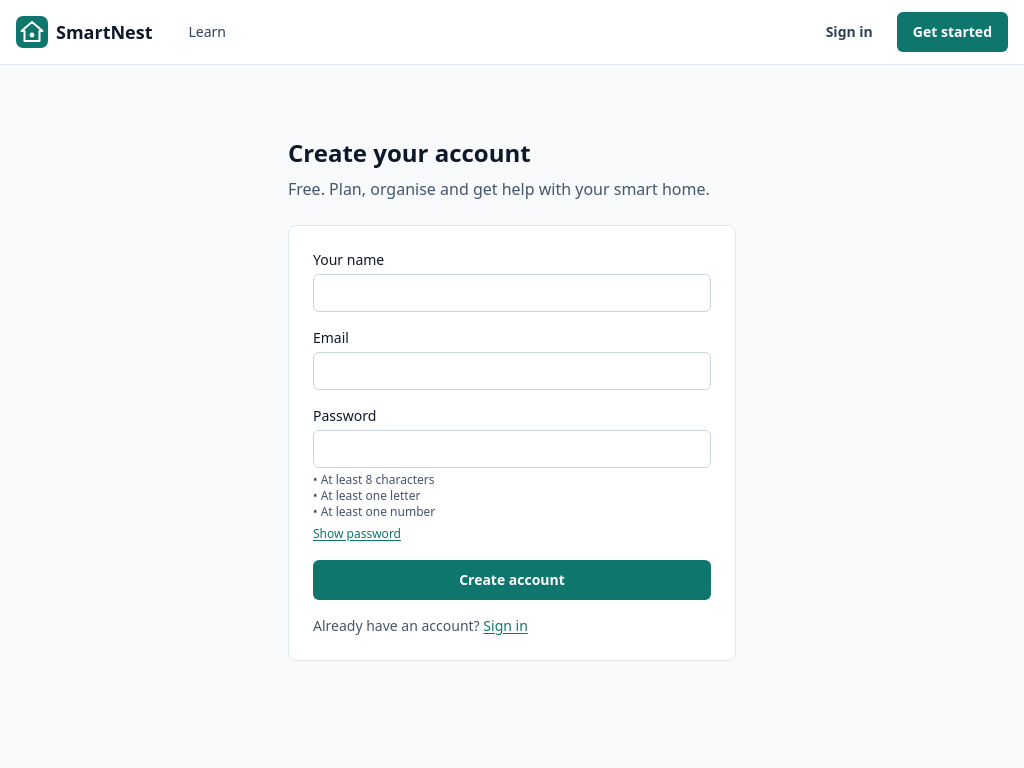
Scenario: sign up › offers sign-in when the email is taken
Type "Asha" into the field labelled "Your name" at x=512, y=293, box [313, 274, 711, 312]
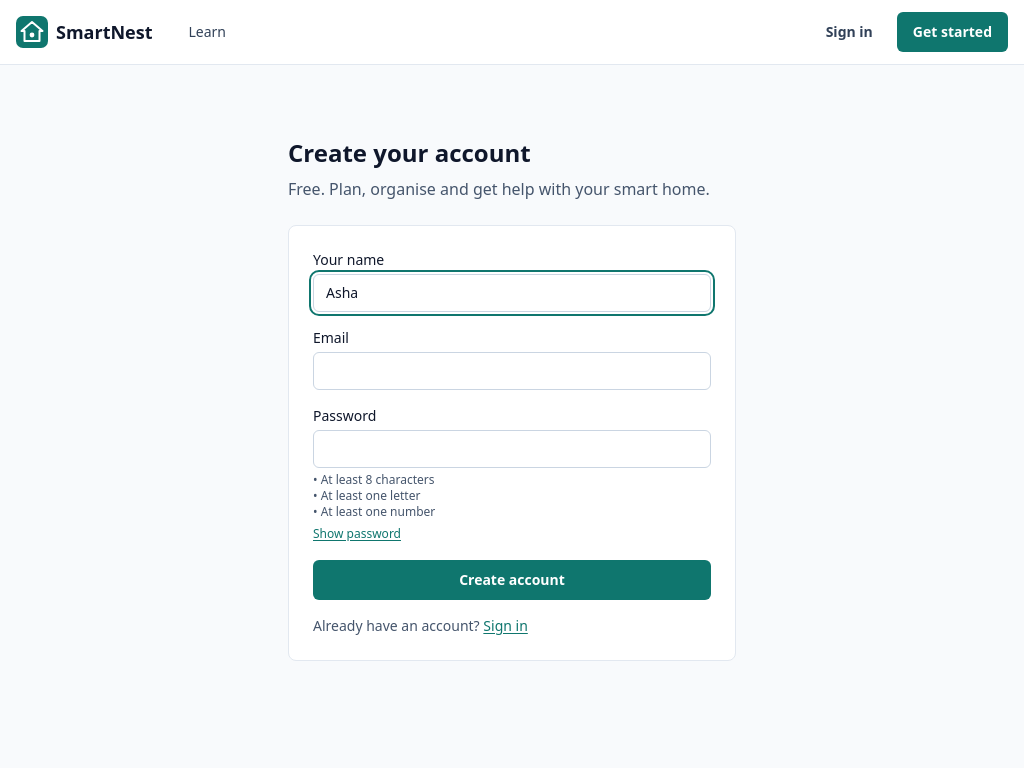
Type "asha@example.com" into the field labelled "Email" at x=512, y=371, box [313, 352, 711, 390]
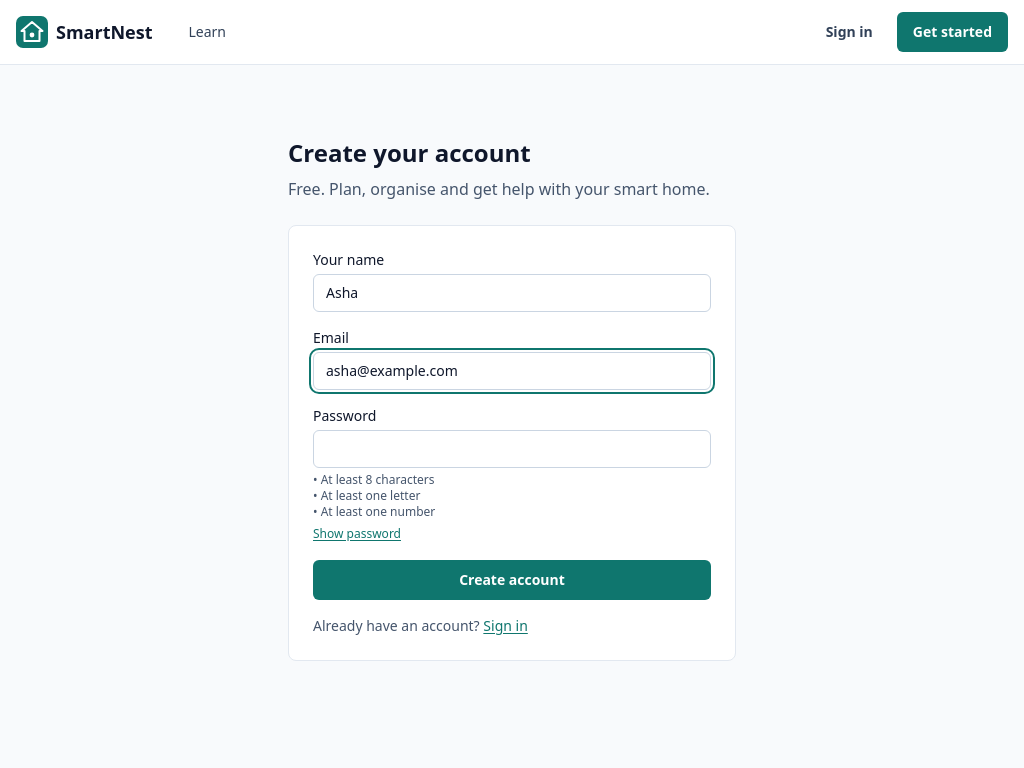
Type "Sup3rSecret99" into the password field labelled "Password" at x=512, y=449, box [313, 430, 711, 468]
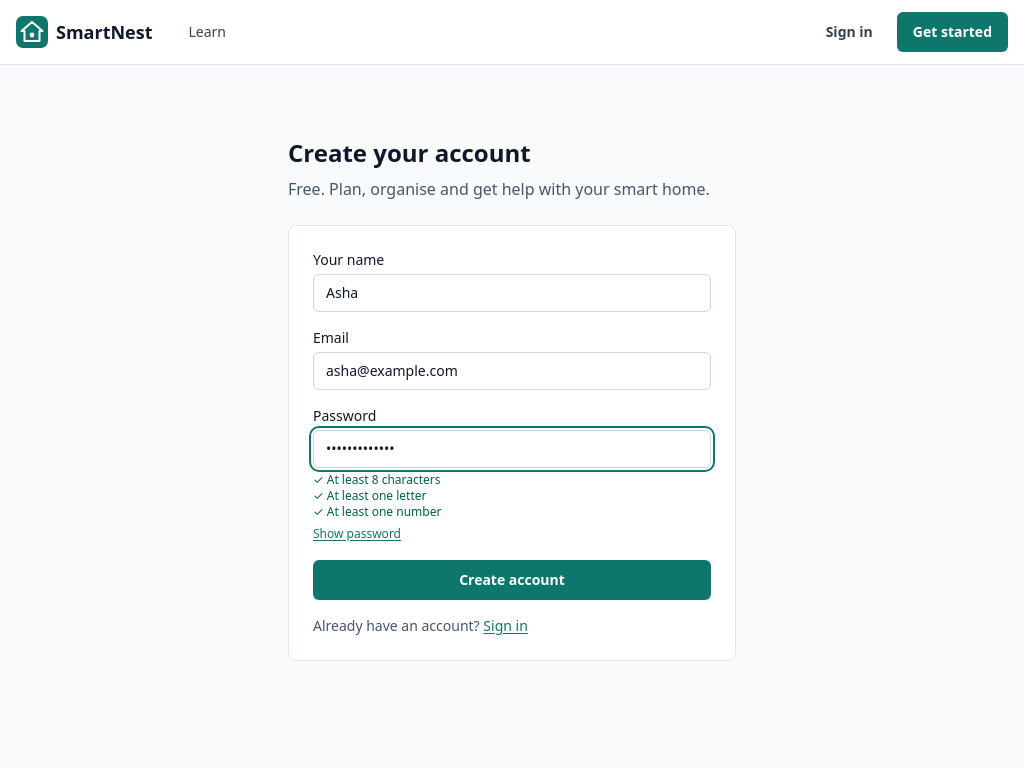
Click the button "Create account" at x=512, y=580, box [313, 560, 711, 600]
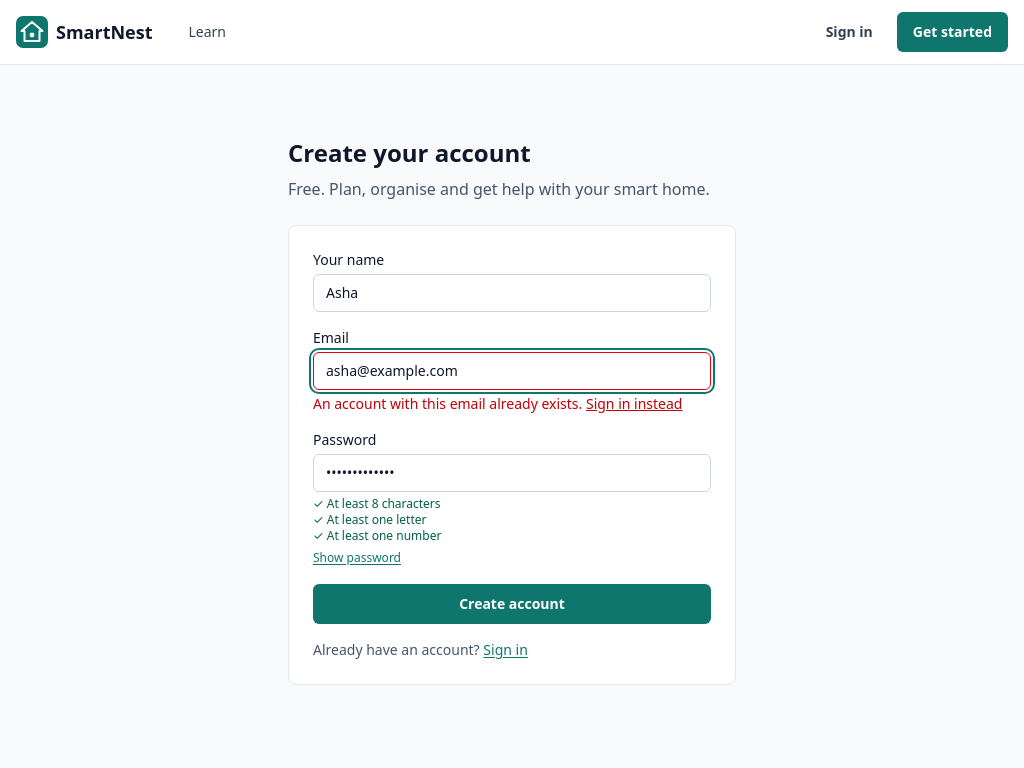
Expected: the text "An account with this email already exists. Sign in instead" is shown, [313, 394, 711, 414]
